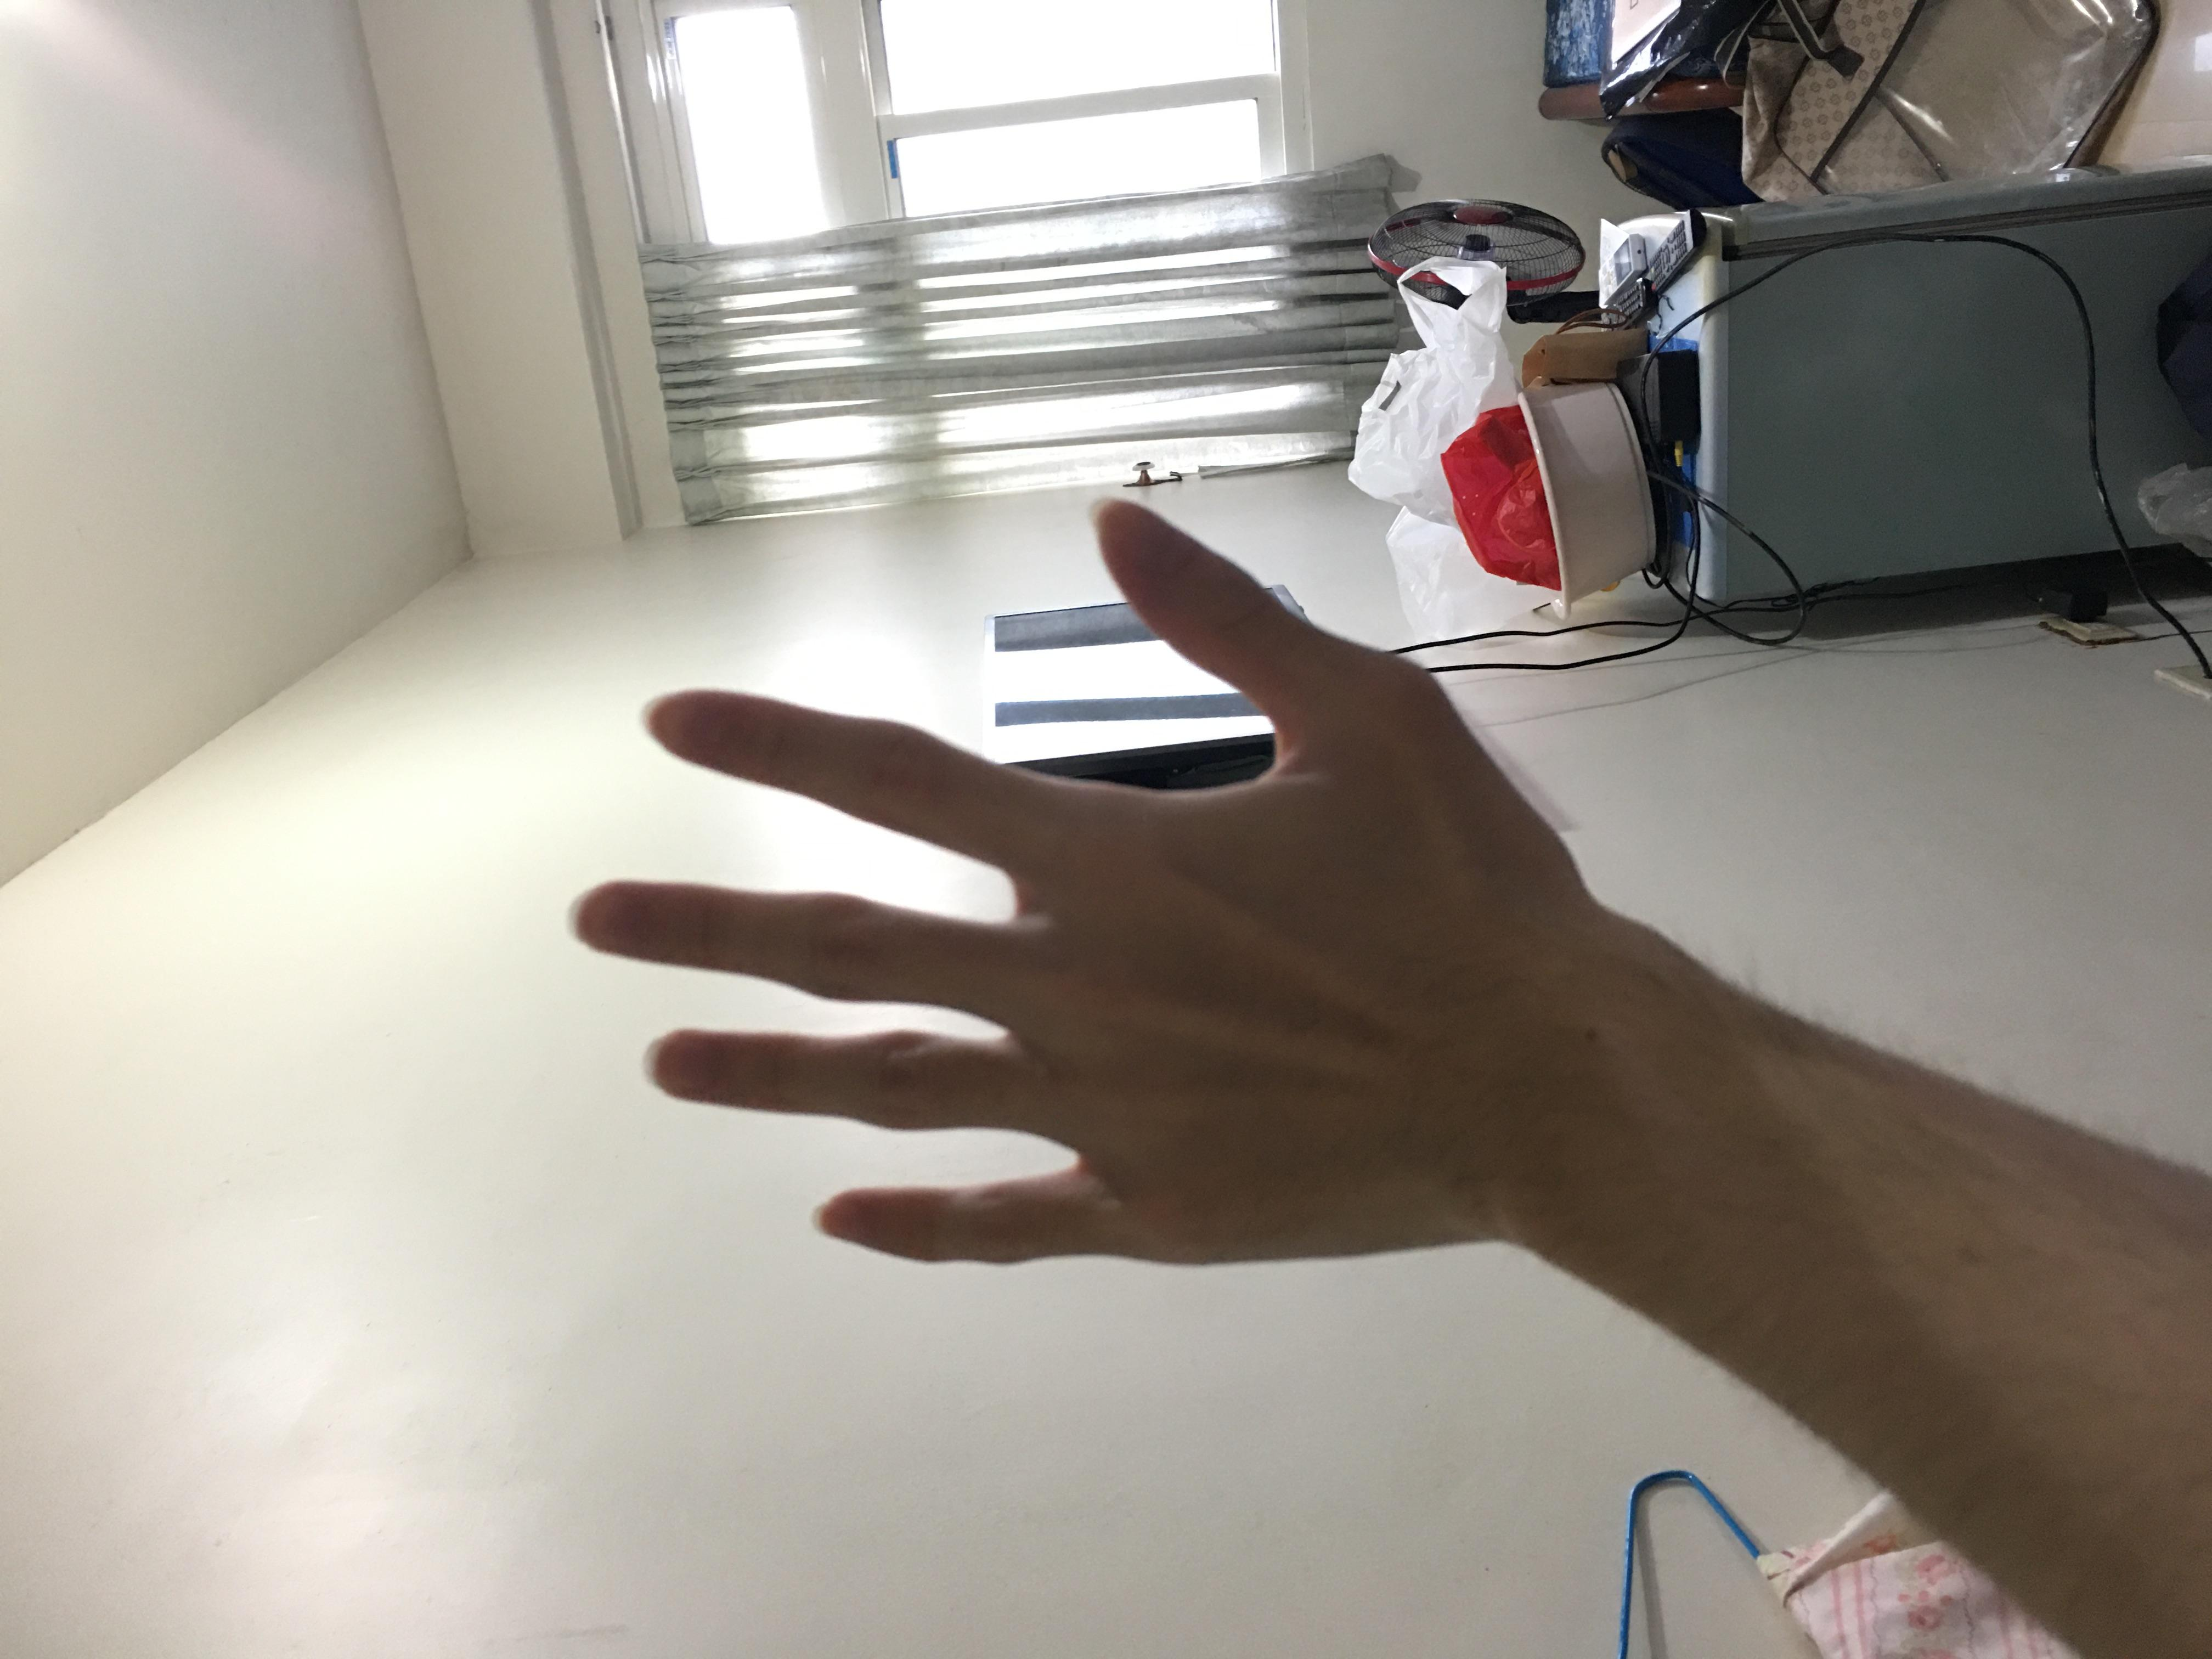hand: (492, 416, 1549, 1184)
